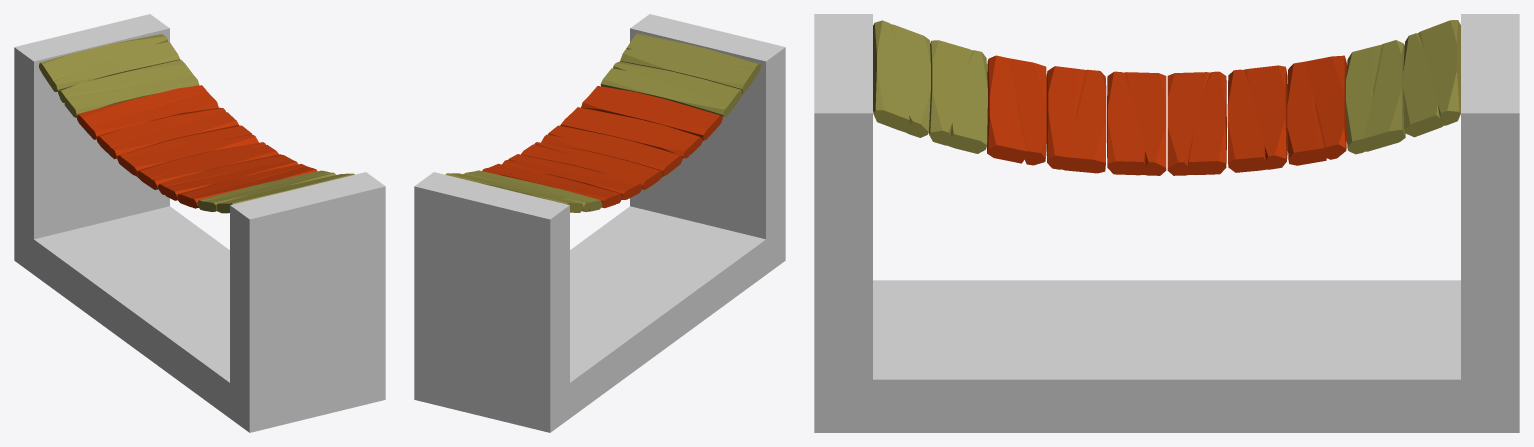
The model's file is block_05.fbx.
3 views of the same model, side by side, from view 1: azimuth 30°, elevation 25°; view 2: azimuth 150°, elevation 25°; view 3: azimuth 270°, elevation 25° (orthographic). The views are drawn at different scales.
Visible parts, largest first — view 1: block_05, bridge, bridgesection_01, bridgesection_02, bridgesection_04, bridgesection_03, bridgesection_05, bridgesection_06; view 2: block_05, bridge, bridgesection_06, bridgesection_05, bridgesection_03, bridgesection_04, bridgesection_02, bridgesection_01; view 3: block_05, bridge, bridgesection_05, bridgesection_02, bridgesection_03, bridgesection_04, bridgesection_06, bridgesection_01.
Part boxes in pixels (x1,y1,x2,y2): block_05: (14,14,385,432); bridge: (39,34,354,213); bridgesection_01: (77,85,218,139); bridgesection_02: (97,107,238,159); bridgesection_04: (117,125,258,176); bridgesection_03: (137,142,278,189); bridgesection_05: (157,154,297,200); bridgesection_06: (177,164,317,208); block_05: (414,14,785,432); bridge: (445,33,760,212); bridgesection_06: (581,86,722,140); bridgesection_05: (560,107,702,158); bridgesection_03: (541,125,682,176); bridgesection_04: (521,142,662,189); bridgesection_02: (502,154,642,199); bridgesection_01: (482,163,622,208); block_05: (814,14,1519,432); bridge: (873,20,1460,154); bridgesection_05: (1046,66,1106,173); bridgesection_02: (1227,65,1287,172); bridgesection_03: (1107,71,1166,175); bridgesection_04: (1167,71,1226,175); bridgesection_06: (987,55,1046,165); bridgesection_01: (1287,55,1346,165).
Size of the model in its own units: 400 by 600 by 1200.
